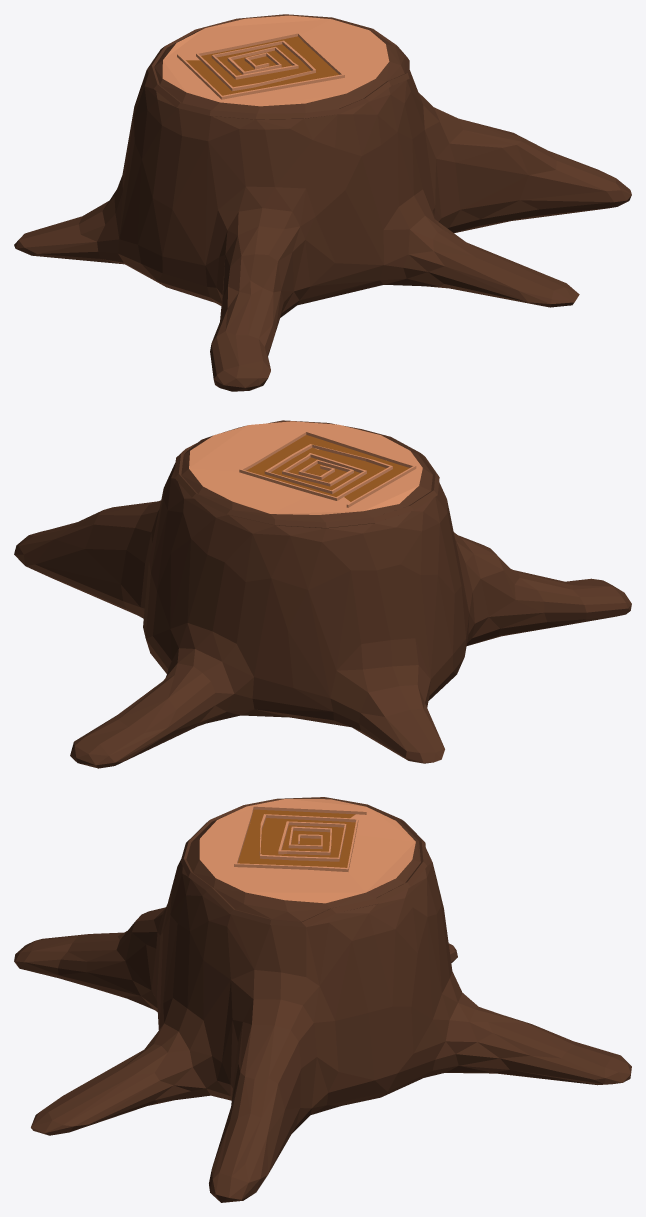
Rendered from Souche avec mauvaises couleurs.fbx.
The picture shows the model from 3 angles, top to bottom: view 1: azimuth 30°, elevation 25°; view 2: azimuth 150°, elevation 25°; view 3: azimuth 270°, elevation 25°; orthographic projection. The views are drawn at different scales.
Visible parts, largest first — view 1: Souche; view 2: Souche; view 3: Souche.
Part boxes in pixels (left/top/right/bottom): Souche: left=14, top=14, right=631, bottom=391; Souche: left=14, top=420, right=631, bottom=768; Souche: left=14, top=797, right=631, bottom=1202.
Bounding box in the file's own units: 800 × 298 × 800.
